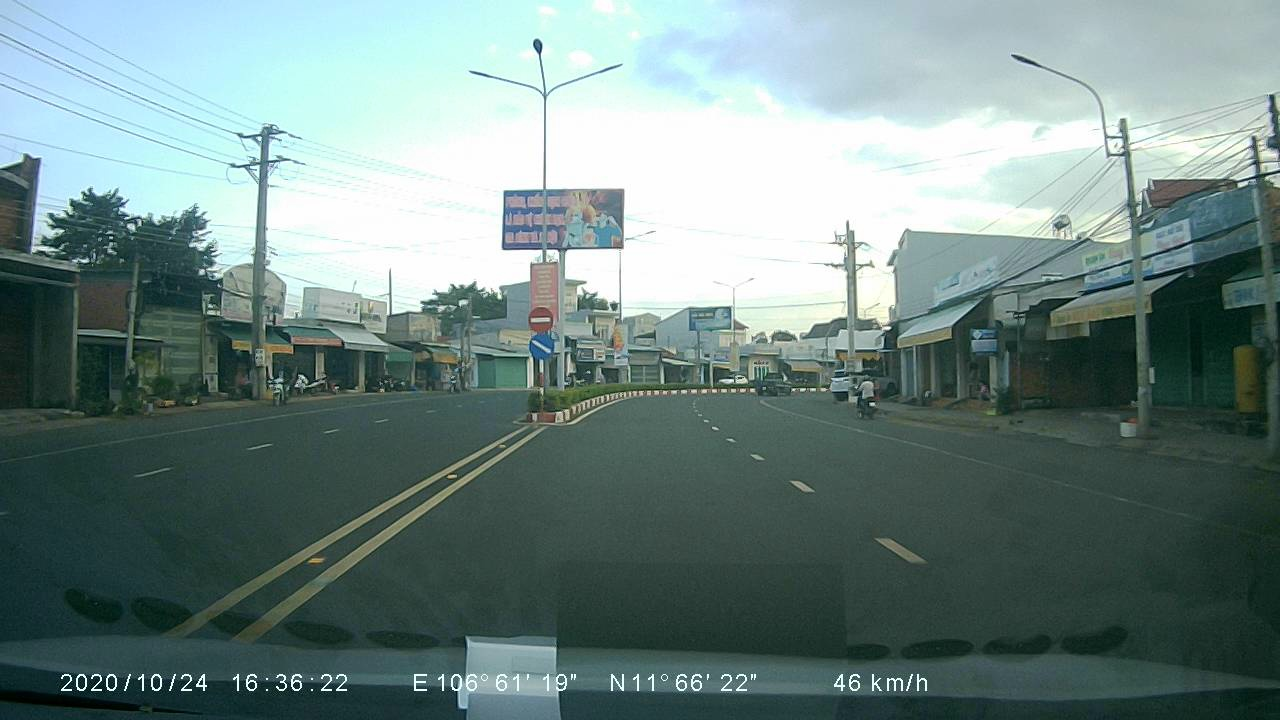Cam di nguoc chieu: (522, 304, 556, 334)
Huong di phai re phai: (527, 332, 557, 360)
